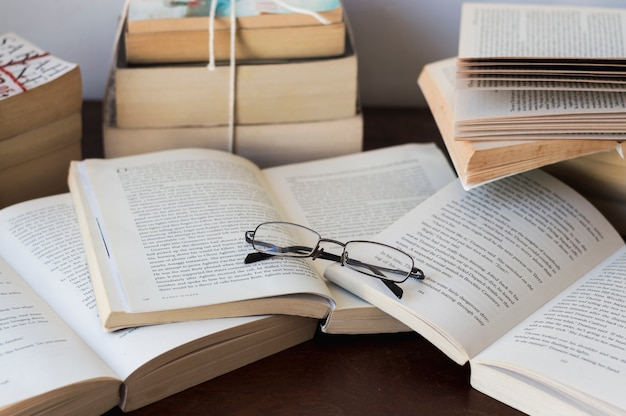book: (8, 1, 617, 402)
